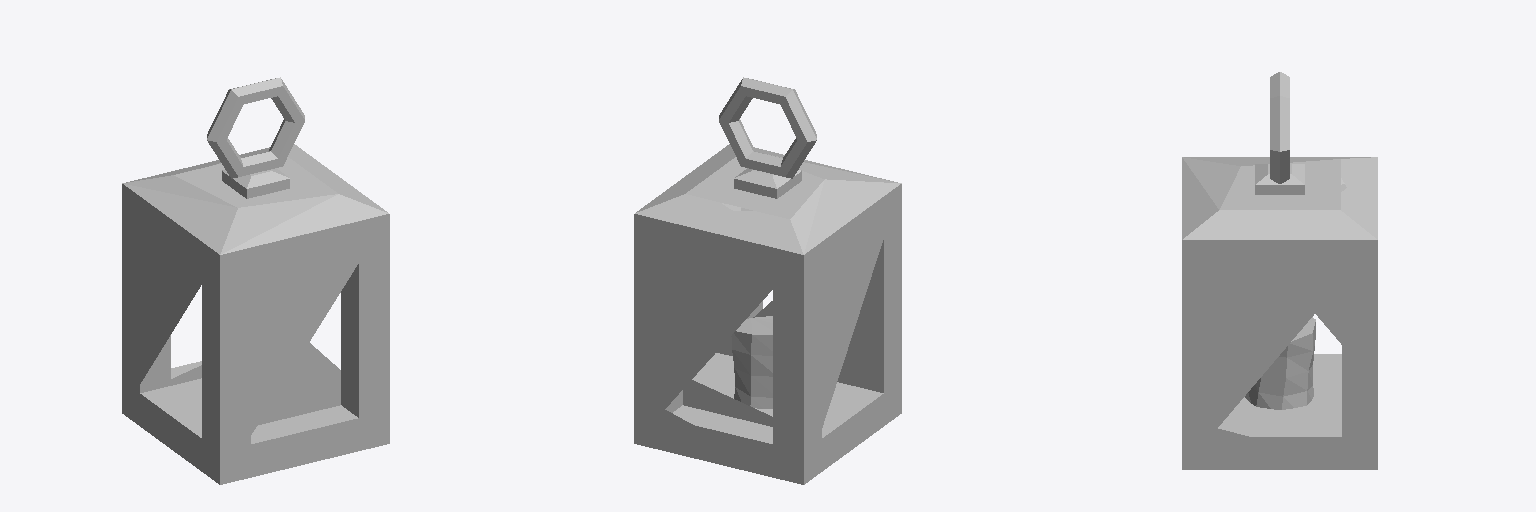
File: Lantern.obj
3 views of the same model, side by side, from view 1: azimuth 30°, elevation 25°; view 2: azimuth 150°, elevation 25°; view 3: azimuth 270°, elevation 25° (orthographic).
Visible parts, largest first — view 1: Lantern_Torus.002; view 2: Lantern_Torus.002; view 3: Lantern_Torus.002.
Boxes of the visible parts, <box> form: Lantern_Torus.002: <box>122,77,389,484</box>; Lantern_Torus.002: <box>634,77,901,484</box>; Lantern_Torus.002: <box>1182,72,1377,469</box>.
Bounding box in the file's own units: 1.06 × 2.05 × 1.06.